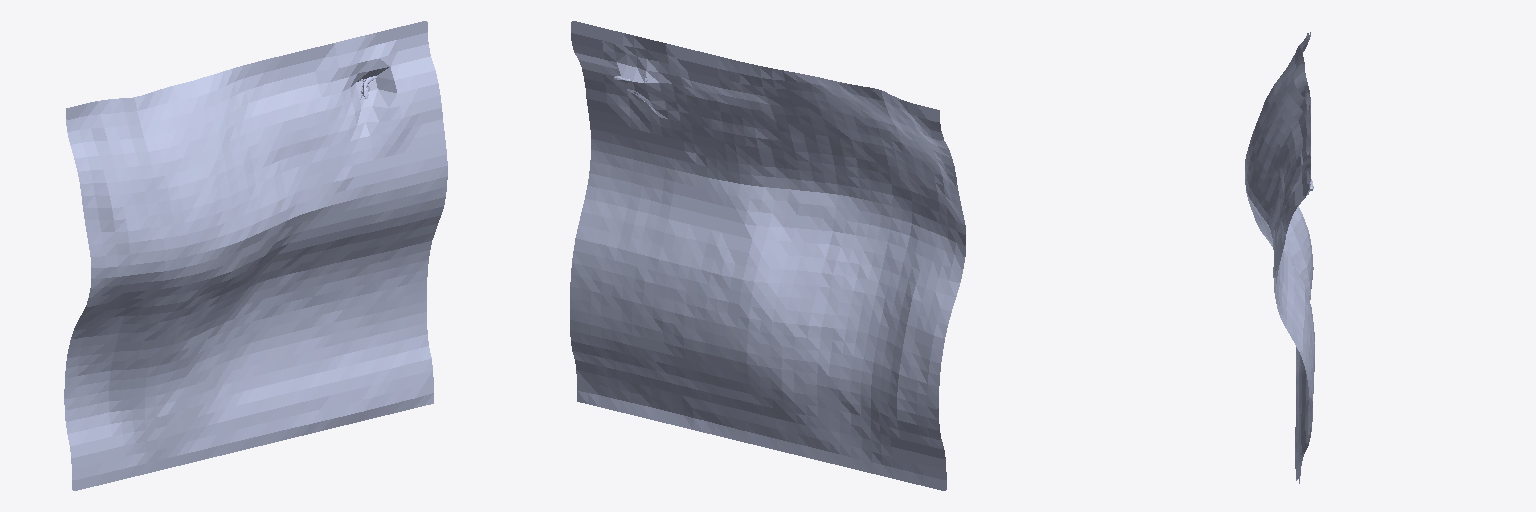
robot.urdf — sand_floor:
<?xml version="1.0" encoding="utf-8"?>
<!-- This URDF was automatically created by SolidWorks to URDF Exporter! Originally created by [author] ([email redacted]) 
     Commit Version: 1.6.0-1-g15f4949  Build Version: 1.6.7594.29634
     For more information, please see http://wiki.ros.org/sw_urdf_exporter -->
<robot
  name="sand_floor">
  <link
    name="base_link">
    <inertial>
      <origin
        xyz="0 0 0"
        rpy="0 0 0" />
      <mass
        value="0" />
      <inertia
        ixx="0"
        ixy="0"
        ixz="0"
        iyy="0"
        iyz="0"
        izz="0" />
    </inertial>
    <visual>
      <origin
        xyz="0 0 0"
        rpy="0 0 0" />
      <geometry>
        <mesh
          filename="package://sand_floor/meshes/base_link.STL" />
      </geometry>
      <material
        name="">
        <color
          rgba="0.792156862745098 0.819607843137255 0.933333333333333 1" />
      </material>
    </visual>
    <collision>
      <origin
        xyz="0 0 0"
        rpy="0 0 0" />
      <geometry>
        <mesh
          filename="package://sand_floor/meshes/base_link.STL" />
      </geometry>
    </collision>
  </link>
</robot>

--- What the picture shows (computed from the rendered views, not written in the file) ---
Views: 3 orthographic renders of the robot side by side, from view 1: azimuth 30°, elevation 25°; view 2: azimuth 150°, elevation 25°; view 3: azimuth 270°, elevation 25°.
Model sand_floor with 1 links and 0 joints (none), rooted at base_link, posed every joint at zero.
Visible links, largest first — view 1: base_link; view 2: base_link; view 3: base_link.
Boxes of the visible links, <box> form: base_link: <box>64,21,447,490</box>; base_link: <box>570,21,965,490</box>; base_link: <box>1245,32,1314,483</box>.
Bounding box of the posed robot: 70 × 13.96 × 70 m (x, y, z).
Meshes: 1 distinct files referenced, 1 mesh visuals loaded (1 binary STL).